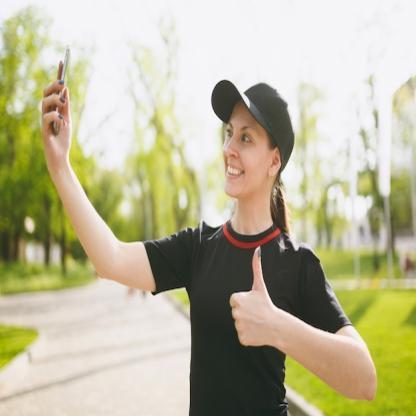thumb_up: (226, 241, 278, 352)
